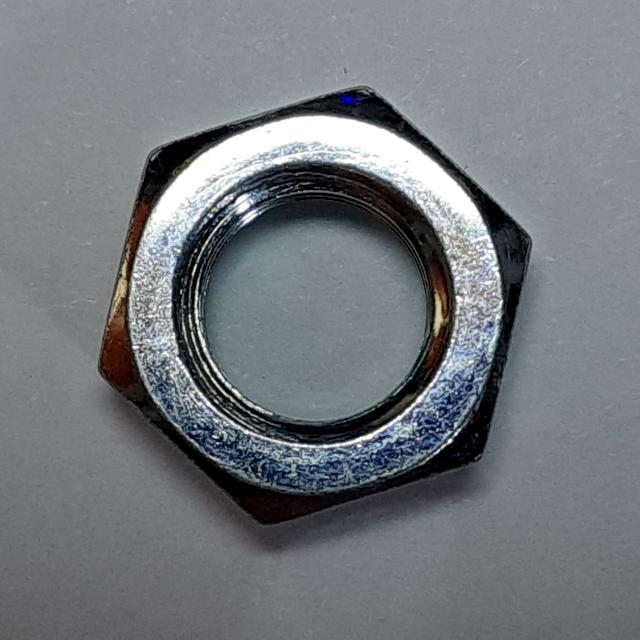Excellent: (83, 70, 551, 548)
